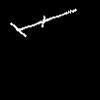double_crochet: (11, 9, 75, 36)
